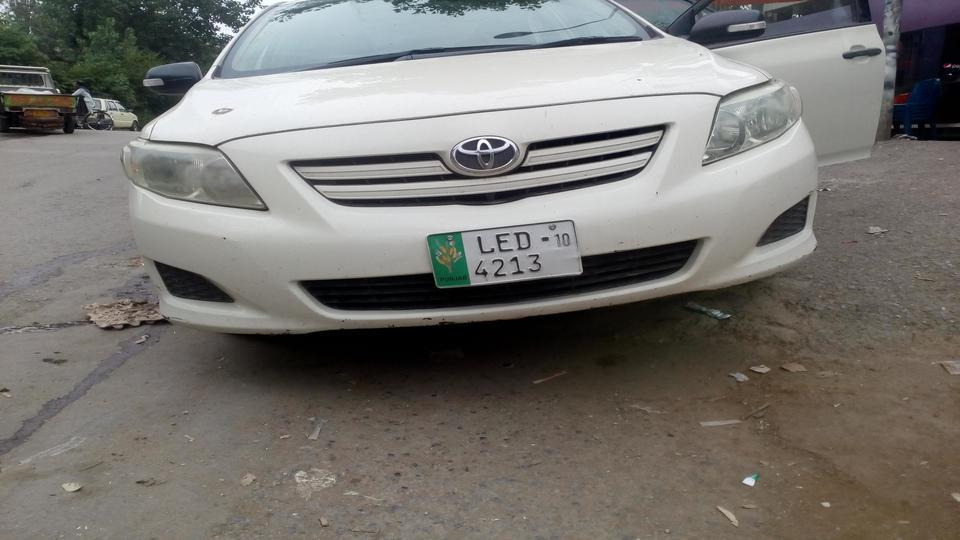NumberPlate: (429, 229, 584, 287)
